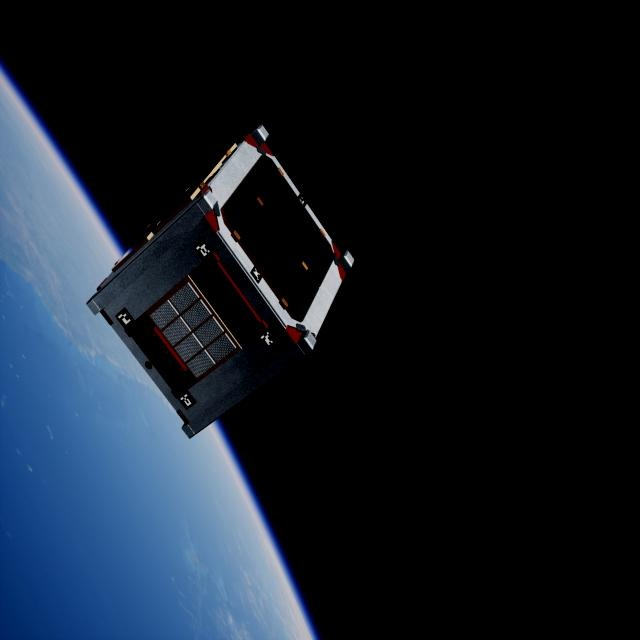medium_debris: (89, 119, 350, 441)
